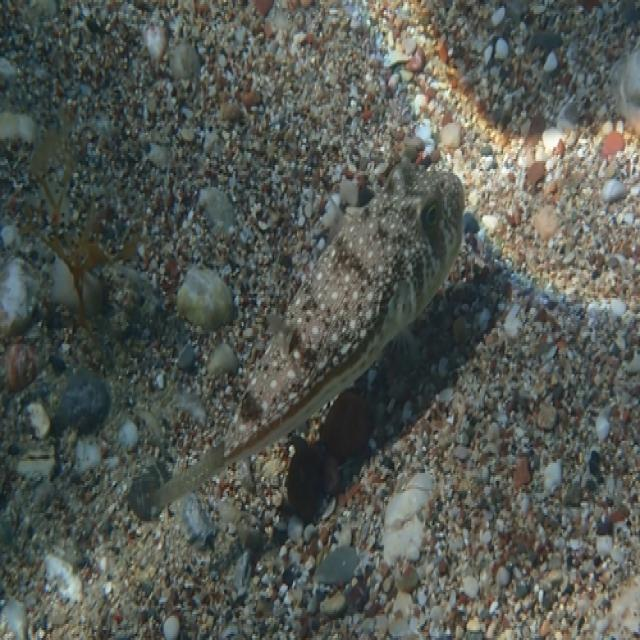Balik: (130, 164, 464, 519)
